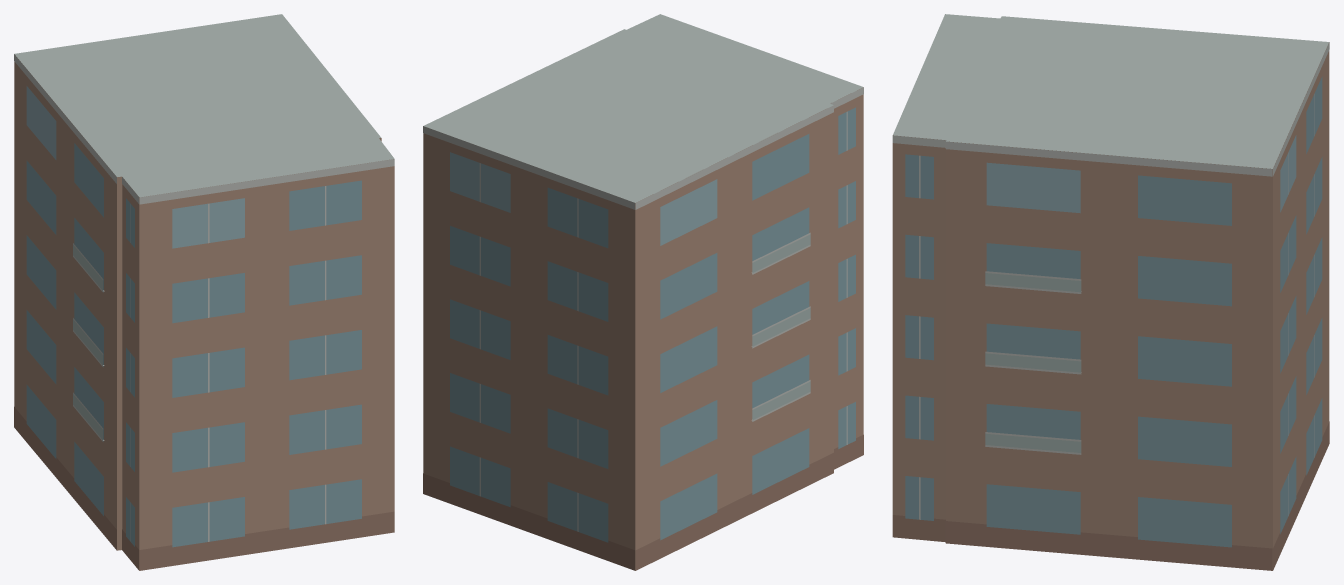
File: survey-upis-32787439.glb
3 renders of one model, left to right at view 1: azimuth 30°, elevation 25°; view 2: azimuth 150°, elevation 25°; view 3: azimuth 270°, elevation 25°, orthographic. The views are drawn at different scales.
Visible parts, largest first — view 1: survey-upis-32787439.tmp; view 2: survey-upis-32787439.tmp; view 3: survey-upis-32787439.tmp.
Boxes of the visible parts, x1,y1,x2,y2 form: survey-upis-32787439.tmp: [14, 14, 394, 570]; survey-upis-32787439.tmp: [423, 14, 863, 570]; survey-upis-32787439.tmp: [892, 14, 1329, 570].
Size of the model in its own units: 10.51 by 12.7 by 12.52.
